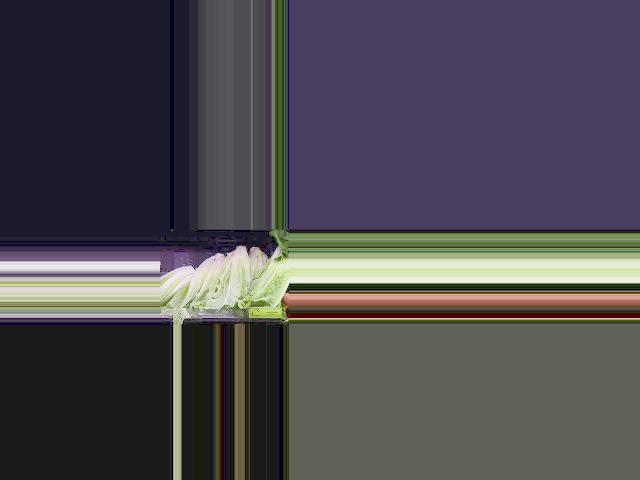lettuce: (159, 264, 197, 305)
